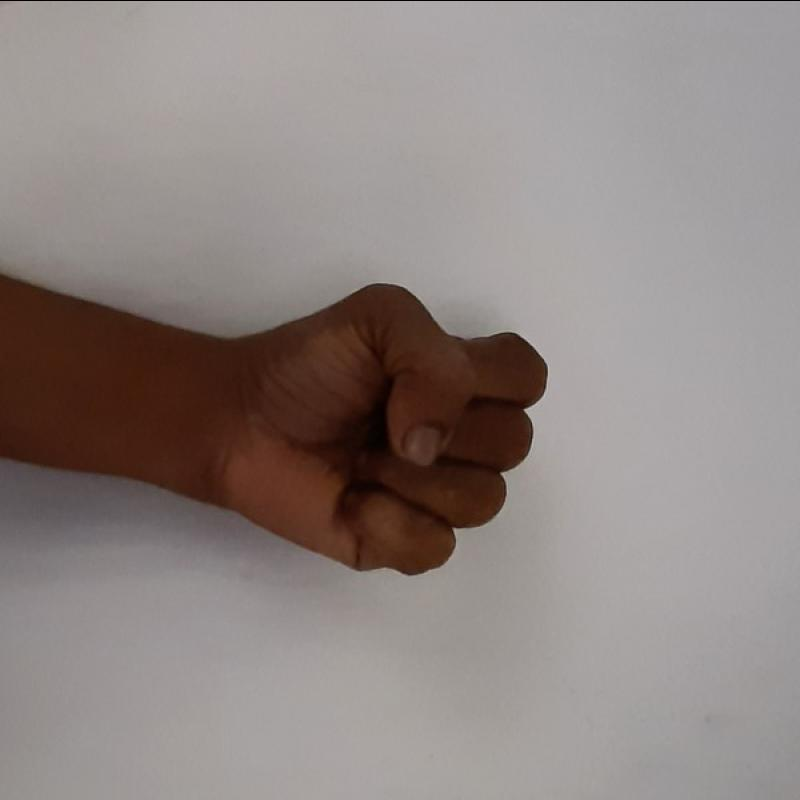Mushti: (217, 246, 553, 601)
